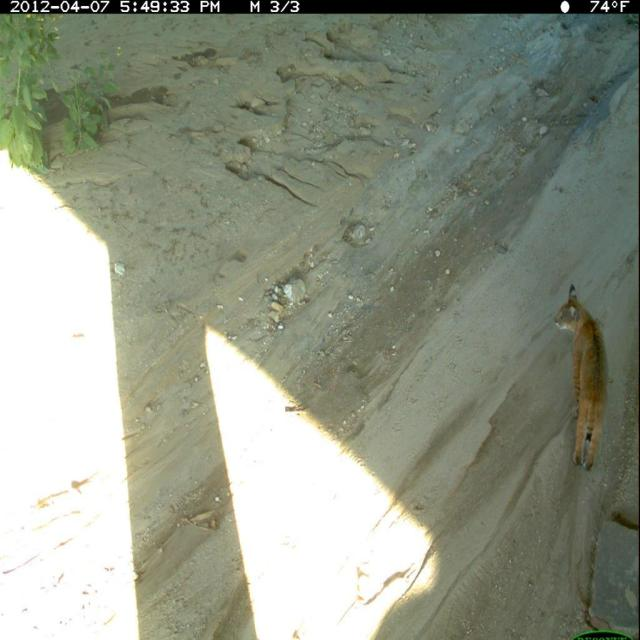bobcat: (552, 277, 614, 476)
